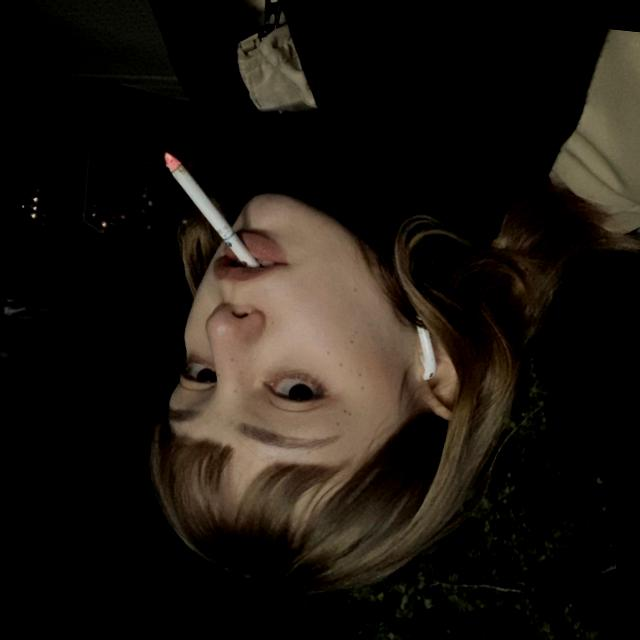smoke: (118, 146, 272, 290)
